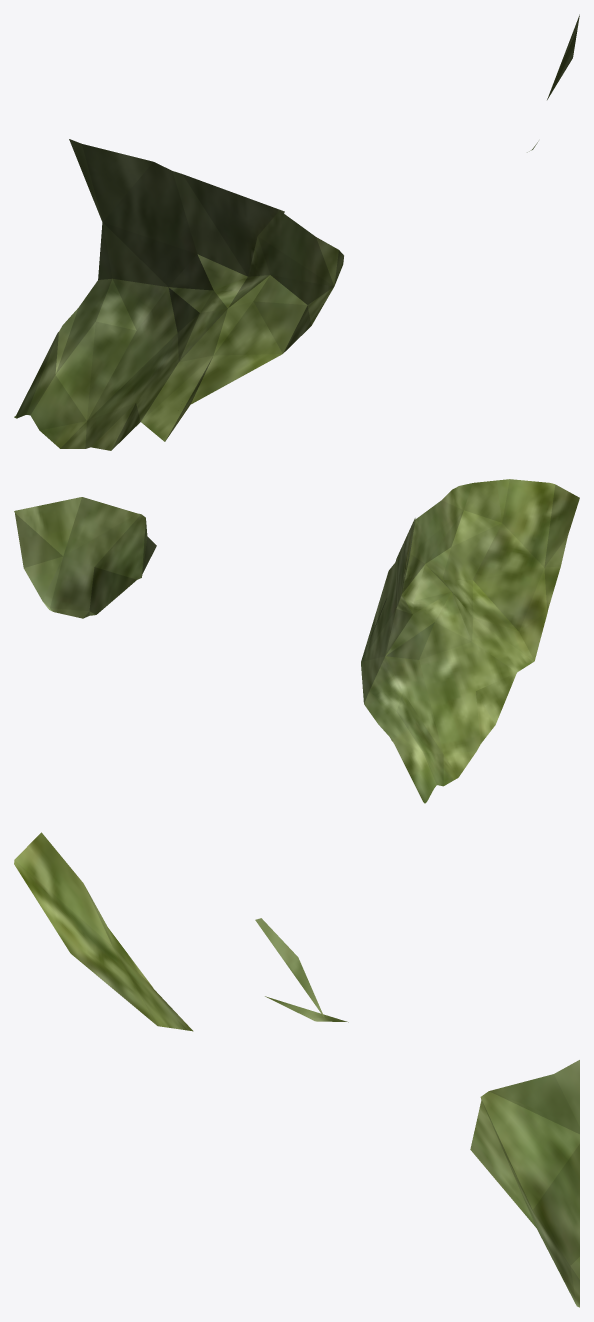
3 renders of one model, top to bottom at view 1: azimuth 30°, elevation 25°; view 2: azimuth 150°, elevation 25°; view 3: azimuth 270°, elevation 25°, orthographic. The views are drawn at different scales.
Bounding box in the file's own units: 2.04 × 0.9147 × 1.4.
Materials: 1 (1 with a texture image).
